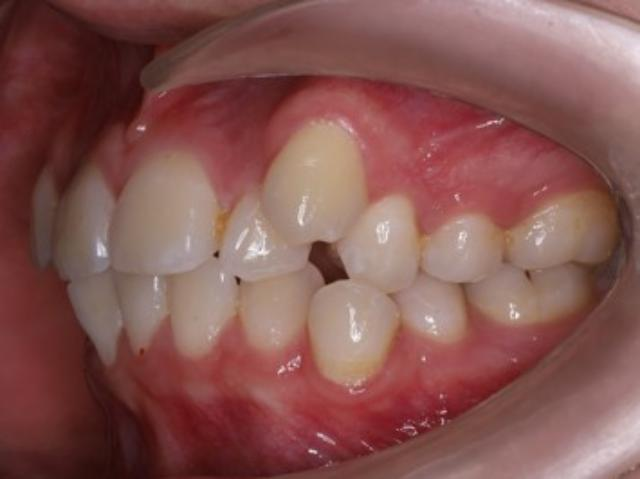canine class II 1/4: (234, 112, 400, 396)
molar class I: (468, 182, 626, 330)
